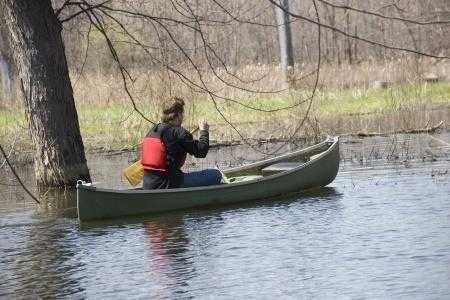kayak: (76, 136, 340, 220)
